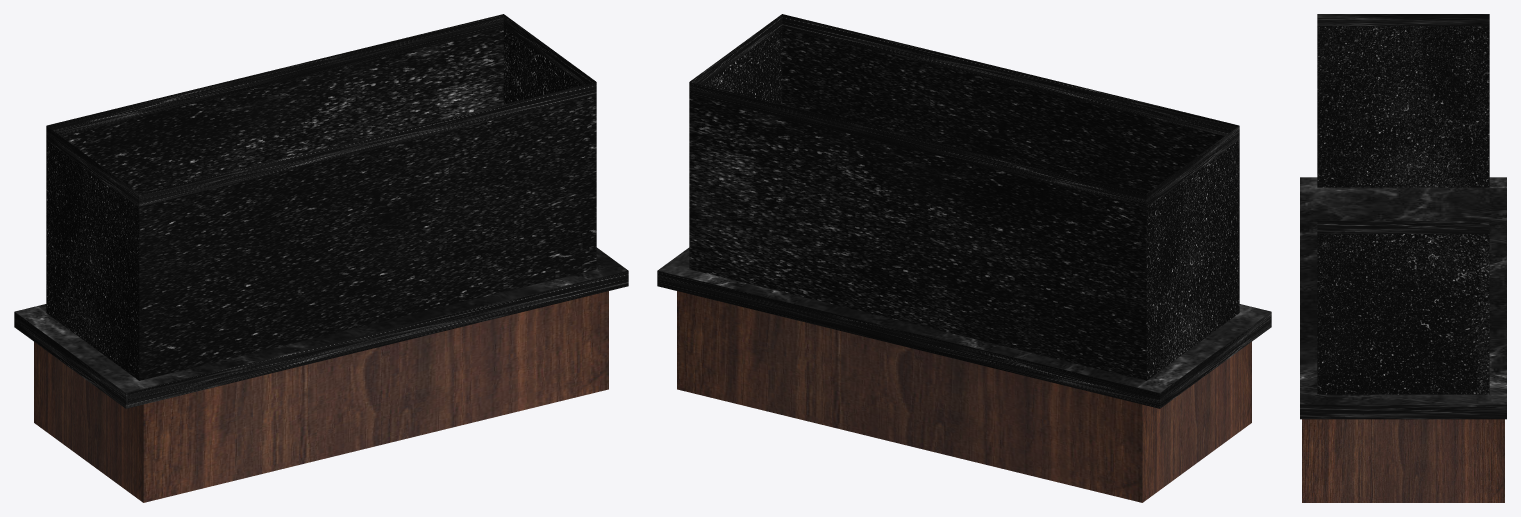
File: pecera.fbx
The picture shows the model from 3 angles, left to right: view 1: azimuth 30°, elevation 25°; view 2: azimuth 150°, elevation 25°; view 3: azimuth 270°, elevation 25°; orthographic projection. The views are drawn at different scales.
Parts seen in each view (by area): view 1: Cube.002, Cube, Cube.001, Cube.003; view 2: Cube.002, Cube, Cube.001, Cube.003; view 3: Cube.002, Cube.001, Cube, Cube.003.
Boxes of the visible parts, bbox=[...] form: Cube.002: bbox=[46, 27, 596, 380]; Cube: bbox=[34, 291, 608, 502]; Cube.001: bbox=[14, 247, 628, 408]; Cube.003: bbox=[46, 14, 596, 207]; Cube.002: bbox=[689, 27, 1239, 380]; Cube: bbox=[677, 291, 1251, 502]; Cube.001: bbox=[657, 247, 1271, 408]; Cube.003: bbox=[689, 14, 1239, 207]; Cube.002: bbox=[1317, 26, 1489, 394]; Cube.001: bbox=[1300, 177, 1506, 419]; Cube: bbox=[1302, 419, 1504, 502]; Cube.003: bbox=[1317, 14, 1489, 233].
Bounding box in the file's own units: 459 × 264 × 176.
